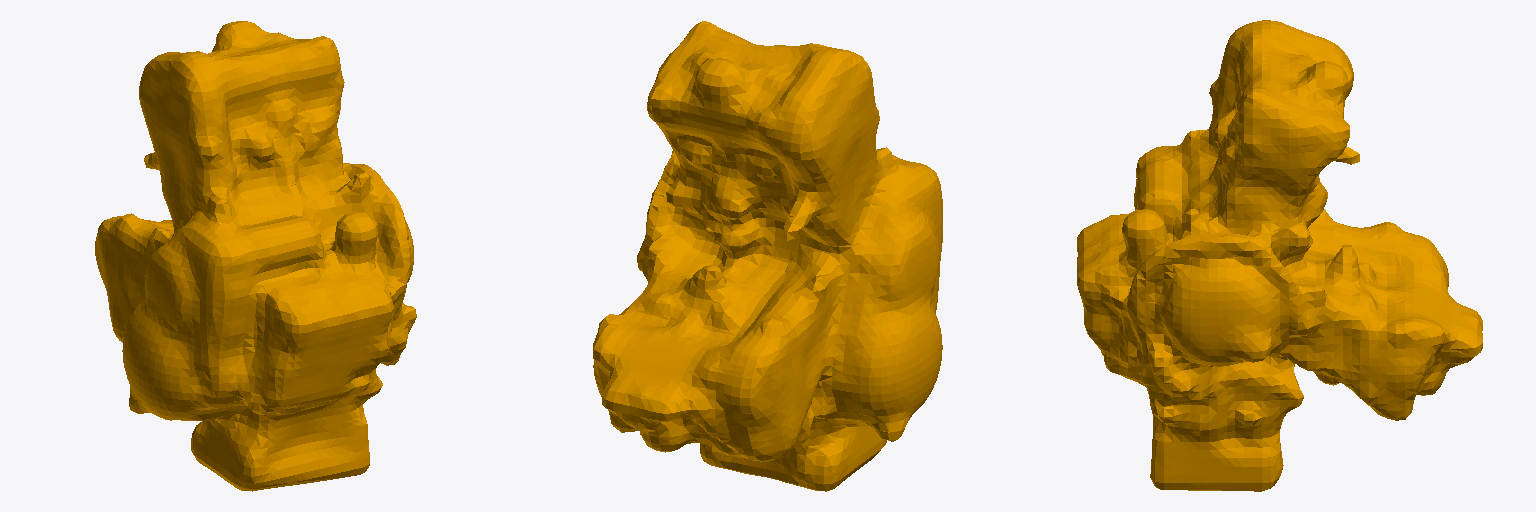
robot.urdf — Motorcycle Engine_subs.off:
<?xml version="1.0"?>
<robot name="Motorcycle Engine_subs.off">
	<link name="Motorcycle Engine_subs.off">
		<inertial>
			<!--origin xyz="0 0 0" rpy="0 0 0" /-->
			<mass value="0.5" />
			<!--inertia ixx="0.000360" ixy="0" ixz="0" iyy="0.0000615" iyz="0" izz="0.00036" /-->
		</inertial>
    		<visual>
	      		<!--origin rpy="0 0 0" xyz="0 0 0"/-->
      			<geometry>
        			<mesh filename="Motorcycle Engine_subs.off.obj"/>
      			</geometry>
         	</visual>
    		<collision>
      			<!--origin rpy="0 0 0" xyz="0 0 0"/-->
      			<geometry>
        			<mesh filename="Motorcycle Engine_subs.off.obj"/>
      			</geometry>
    		</collision>
	</link>
</robot>

--- Facts derived from the render (not from the file) ---
The picture shows the robot from 3 angles, left to right: view 1: azimuth 30°, elevation 25°; view 2: azimuth 150°, elevation 25°; view 3: azimuth 270°, elevation 25°; orthographic projection.
Model Motorcycle Engine_subs.off with 1 links and 0 joints (none), rooted at Motorcycle Engine_subs.off, posed every joint at zero.
Visible links, largest first — view 1: Motorcycle Engine_subs.off; view 2: Motorcycle Engine_subs.off; view 3: Motorcycle Engine_subs.off.
Boxes of the visible links, x1=… form: Motorcycle Engine_subs.off: x1=95, y1=21, x2=416, y2=491; Motorcycle Engine_subs.off: x1=593, y1=21, x2=942, y2=491; Motorcycle Engine_subs.off: x1=1077, y1=20, x2=1482, y2=491.
Bounding box of the posed robot: 16.73 × 22.69 × 25.51 m (x, y, z).
1 mesh visuals loaded from 1 distinct referenced files (1 OBJ).